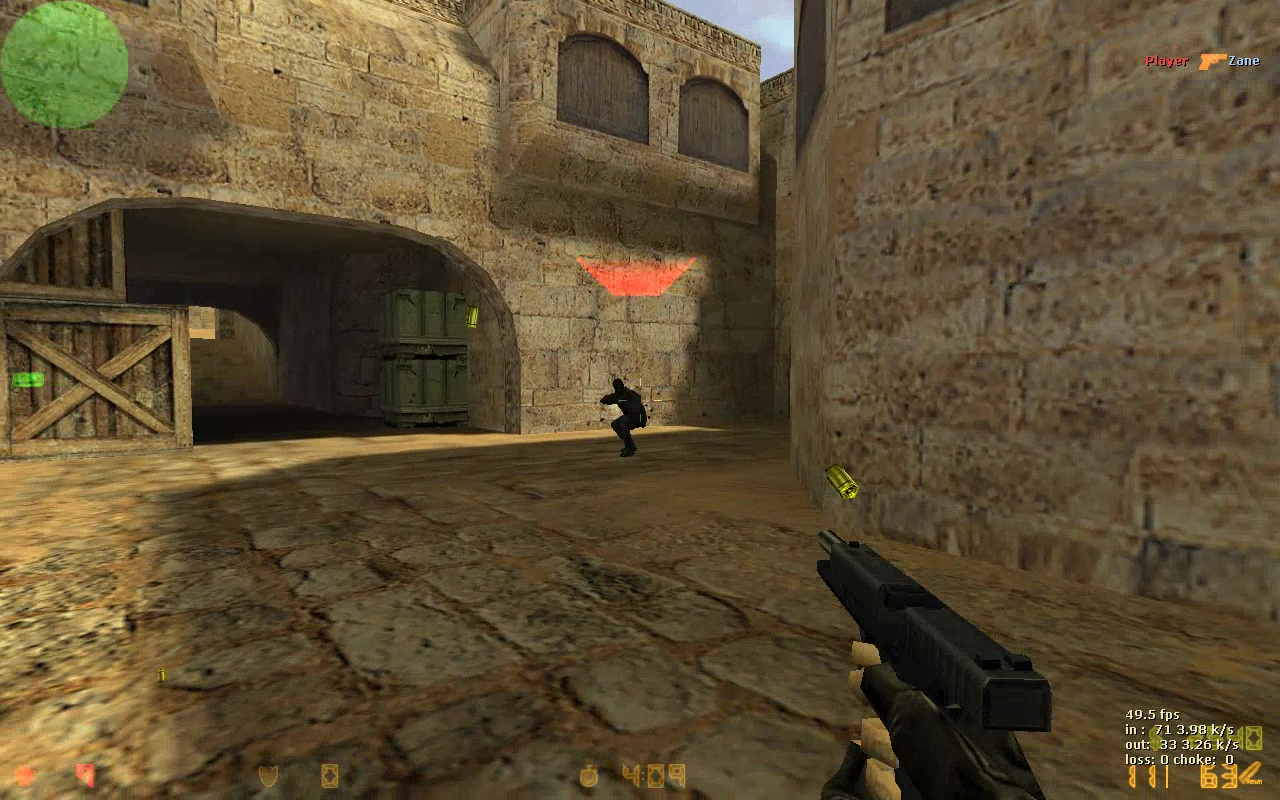ct: (598, 377, 651, 461)
